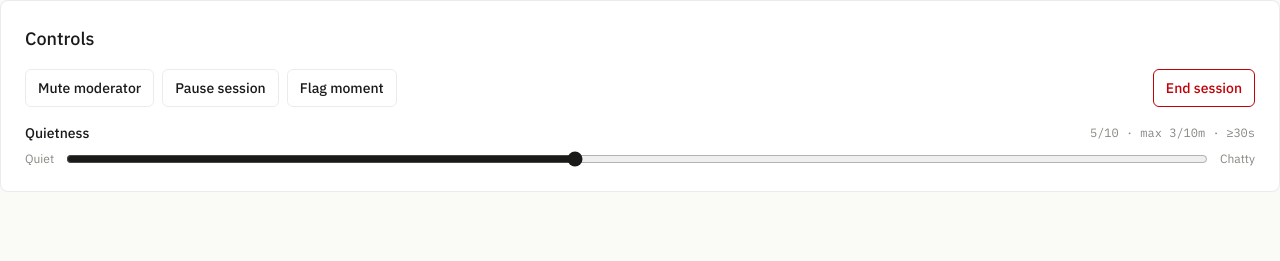
Test: <ControlBar /> — mute toggle › reverts the optimistic toggle and surfaces an error when the POST fails
Click the button "Mute moderator".
click(90, 88)  # box [25,69,154,107]
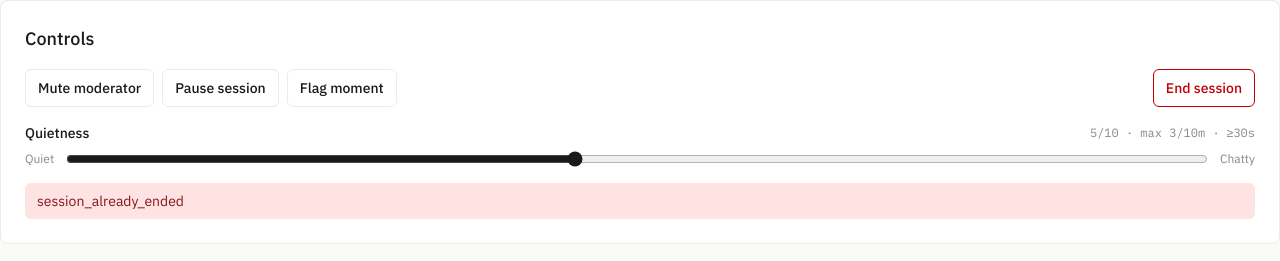
Result: the message reads "session_already_ended" at [37,192,184,210]
